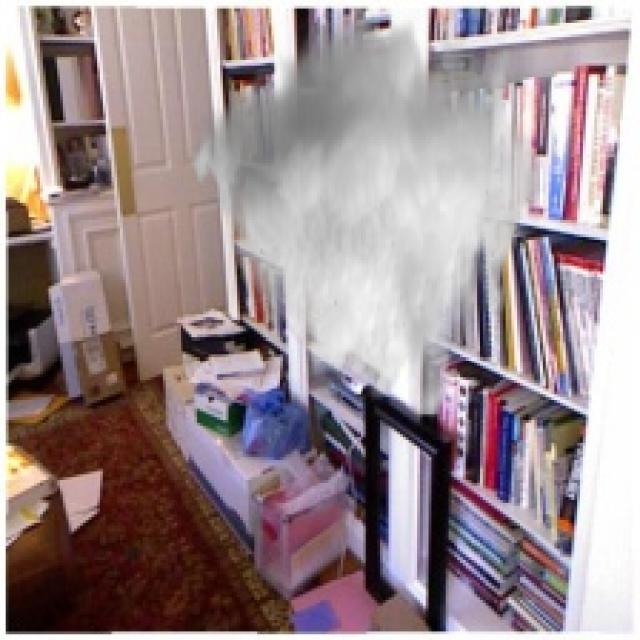smoke: (183, 9, 540, 417)
